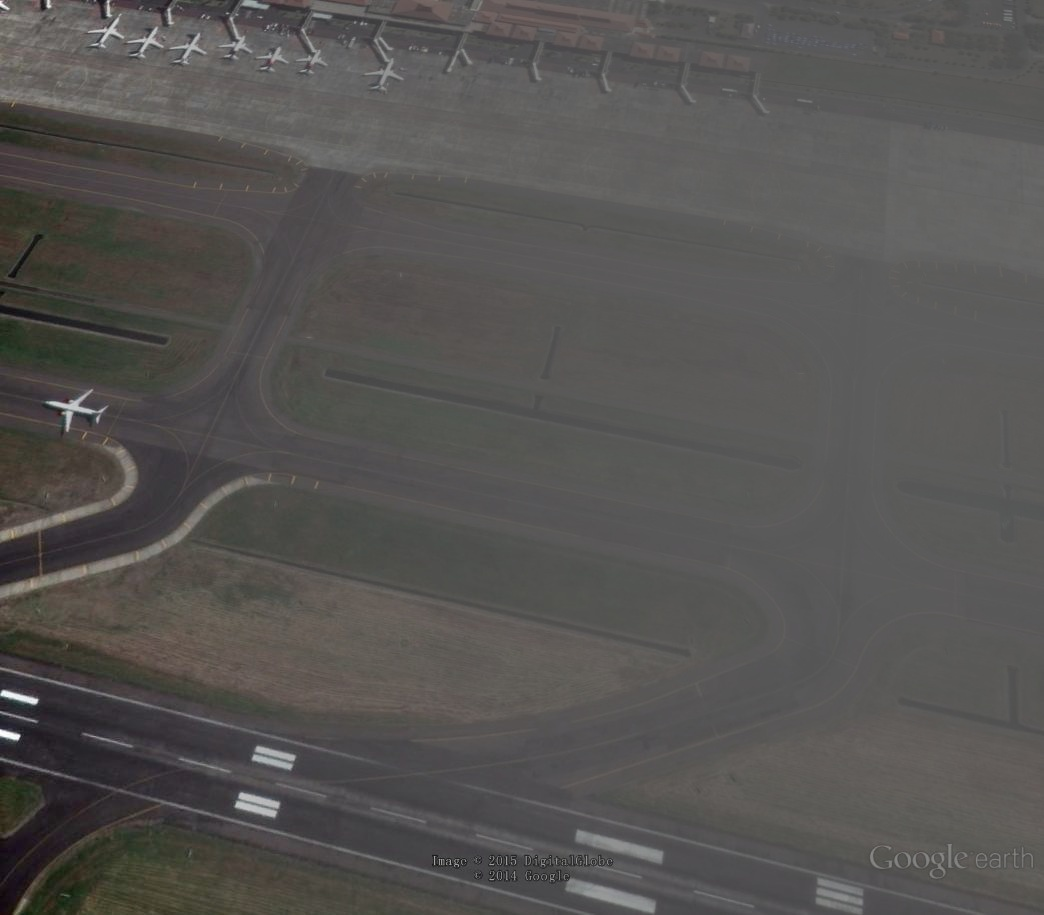aircraft: (42, 387, 113, 436), (121, 24, 169, 67), (84, 12, 128, 54), (162, 31, 210, 69), (361, 56, 405, 95), (253, 44, 293, 77), (215, 34, 254, 65), (295, 49, 329, 79)
